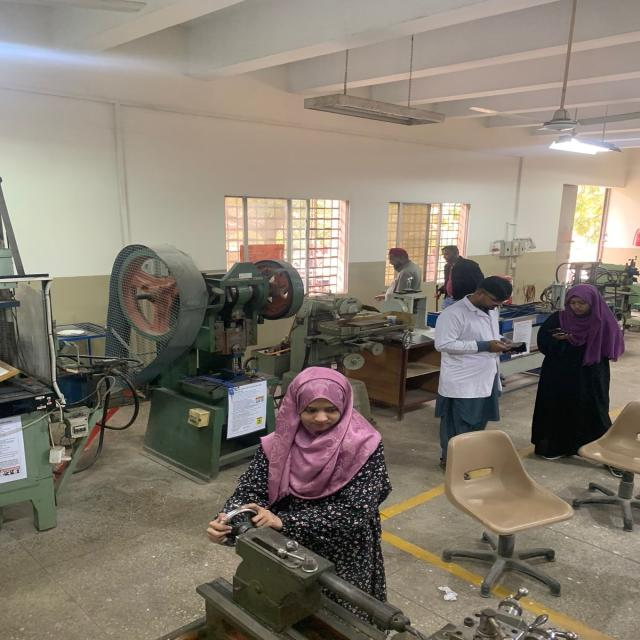labcoat: (432, 291, 509, 402)
